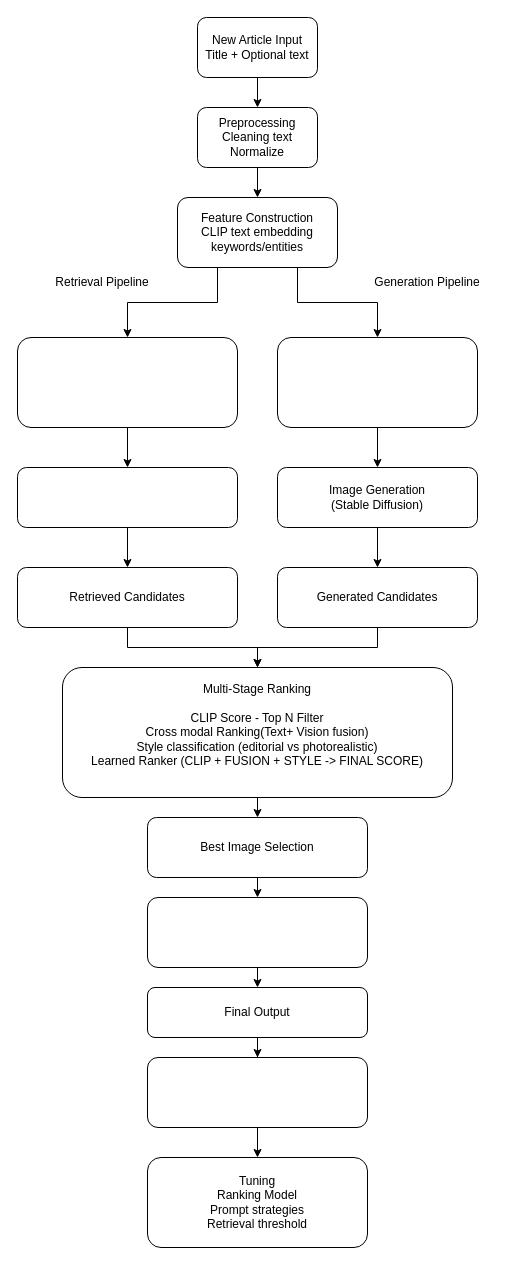
Image size: 515x1265. Some labels were removed from this diagram. The shapes that lost their labels are listed below. From the top down, each one's centre as x and y in pixels, then its label:
At point 127,382: "Precomputed Image Embeddings CLIP / FAISS Index".
At point 377,382: "Prompt Engineering Keywords - LLM Enhancement".
At point 127,497: "Similarity Search (Top-K)".
At point 257,932: "Post Processing Resize 460 x 260 Naming format standardization".
At point 257,1092: "Evaluation CLIP Score Human Judgments".
